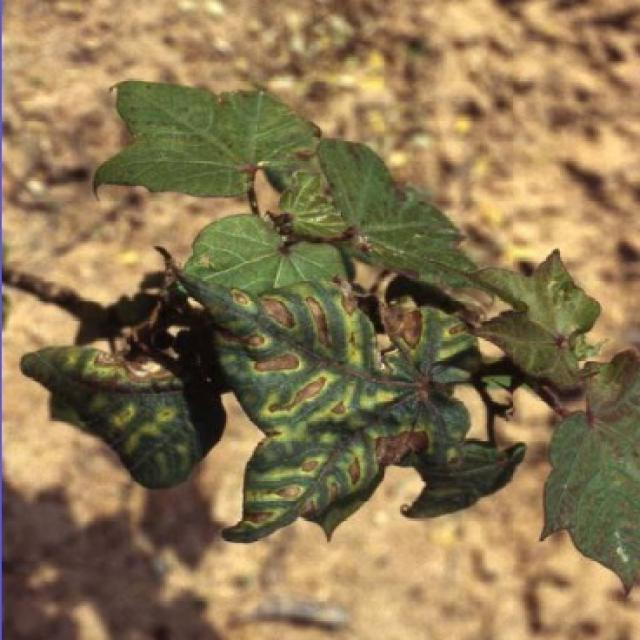Fusarium Wilt: (14, 34, 571, 640)
